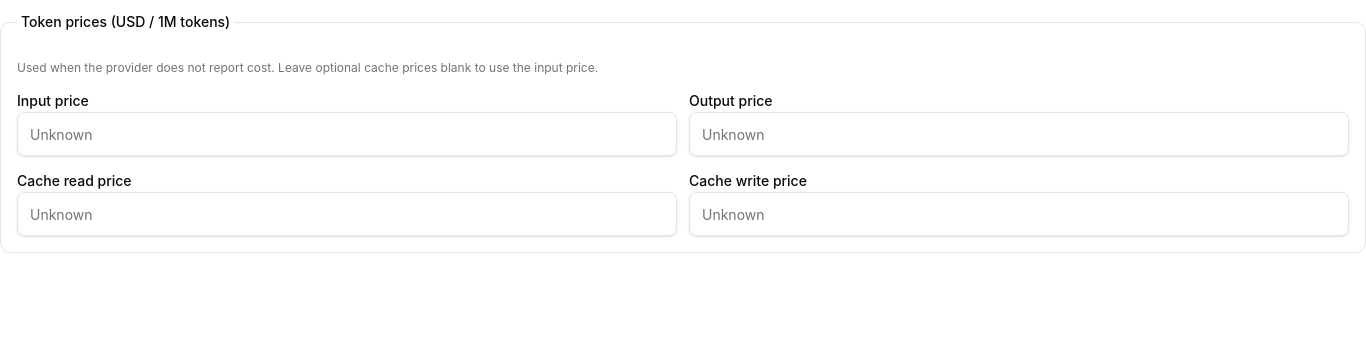
Test: model price configuration › preserves partially entered prices, accepts zero and clears all fields
Type "2" into the number field labelled "Input price". click: coordinates (347, 134)
box: [17,112,677,156]
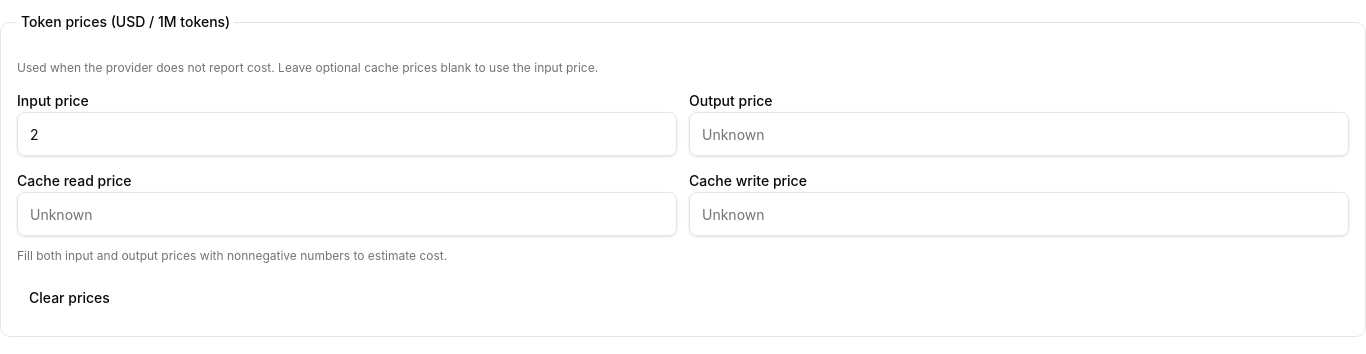
Type "0" into the number field labelled "Output price". click: coordinates (1019, 134)
box: [689,112,1349,156]
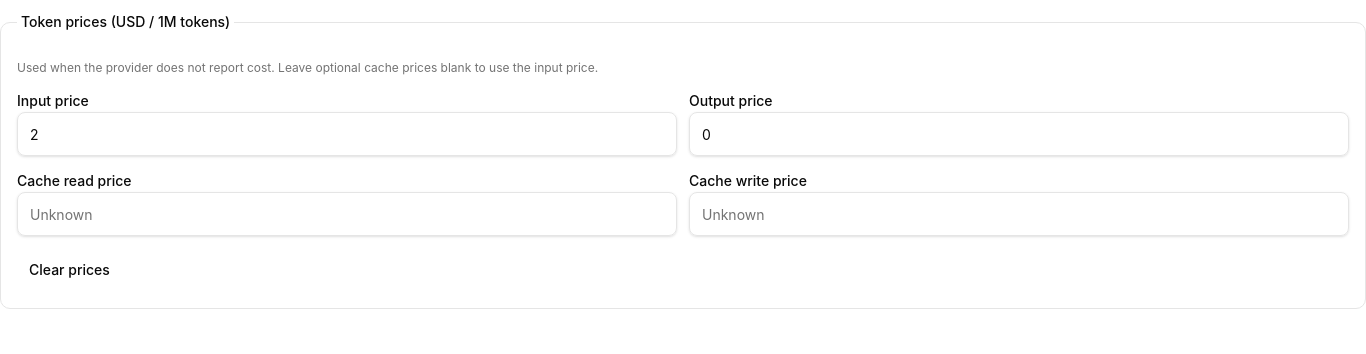
Type "0.2" into the number field labelled "Cache read price". click: coordinates (347, 214)
box: [17,192,677,236]
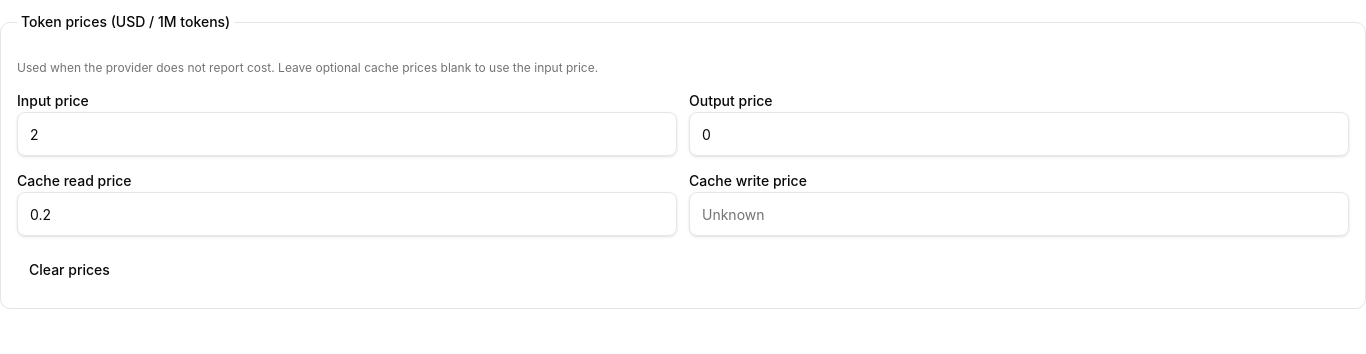
Type "-1" into the number field labelled "Cache write price". click: coordinates (1019, 214)
box: [689,192,1349,236]
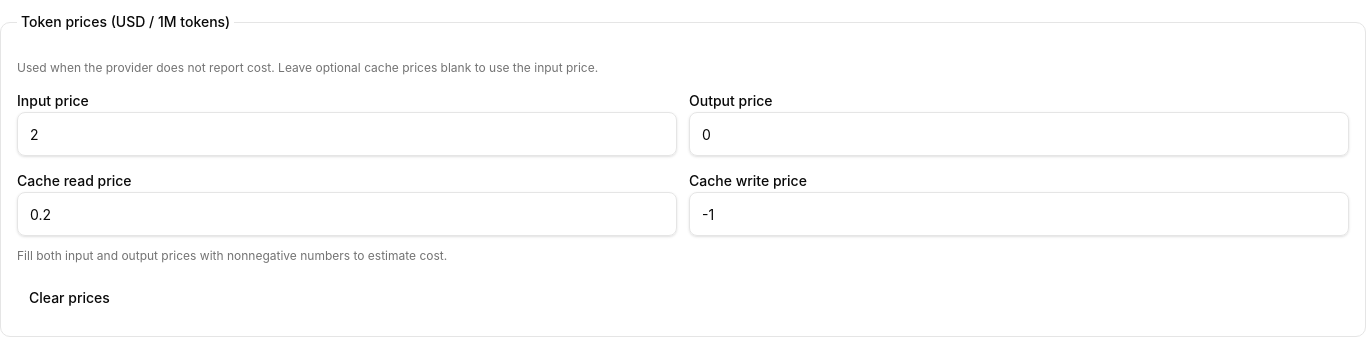
Click the button "Clear prices". click: coordinates (69, 298)
box: [17,276,122,320]
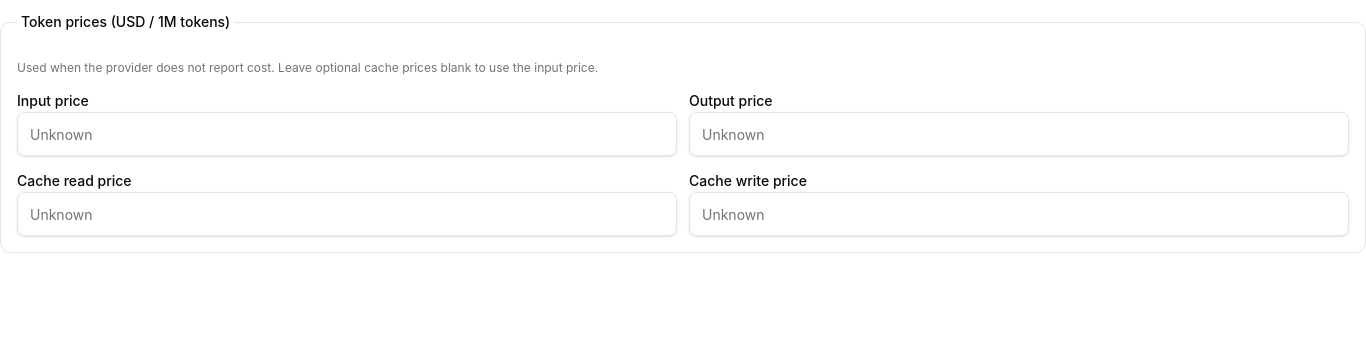
Result: the number field labelled "Input price" is empty at [17,112,677,156]
